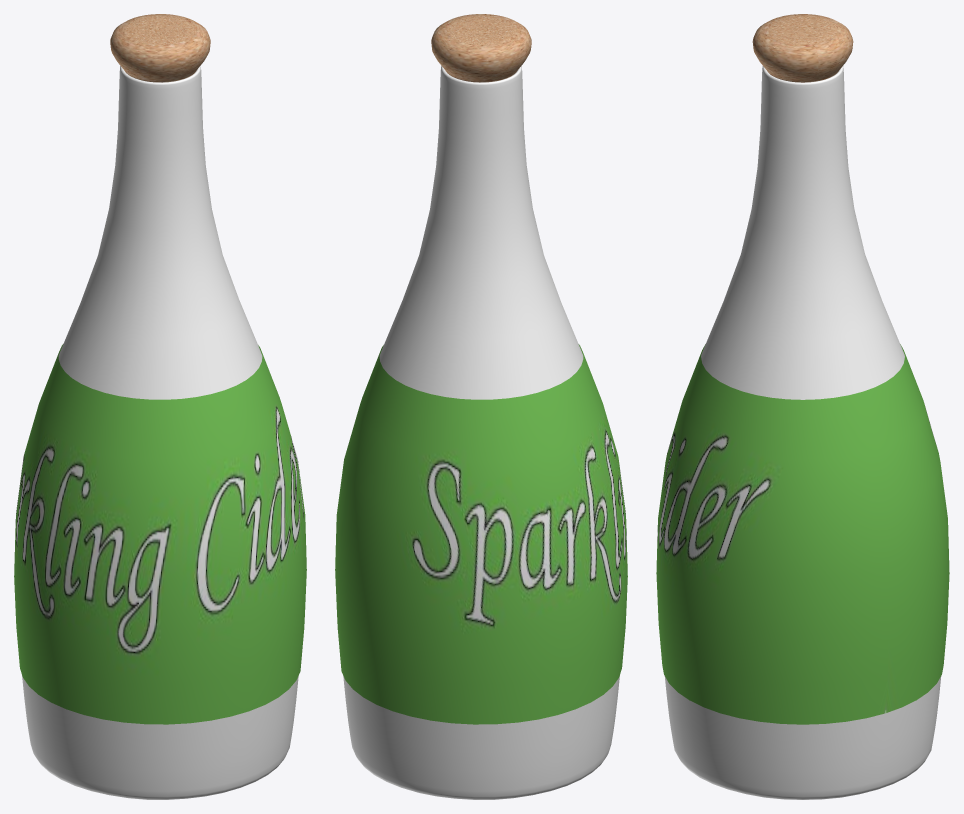
File: Sparkling_Cider.fbx
3 views of the same model, side by side, from view 1: azimuth 30°, elevation 25°; view 2: azimuth 150°, elevation 25°; view 3: azimuth 270°, elevation 25° (orthographic).
Visible parts, largest first — view 1: Label, SparklingCider, Cork; view 2: Label, SparklingCider, Cork; view 3: Label, SparklingCider, Cork.
Part boxes in pixels (x1,y1,x2,y2): Label: [14, 344, 306, 724]; SparklingCider: [22, 66, 298, 799]; Cork: [110, 14, 210, 82]; Label: [335, 344, 627, 724]; SparklingCider: [343, 66, 619, 799]; Cork: [431, 14, 531, 82]; Label: [656, 344, 949, 724]; SparklingCider: [664, 66, 941, 799]; Cork: [752, 14, 853, 82].
Bounding box in the file's own units: 0.3109 × 0.8436 × 0.3106.
